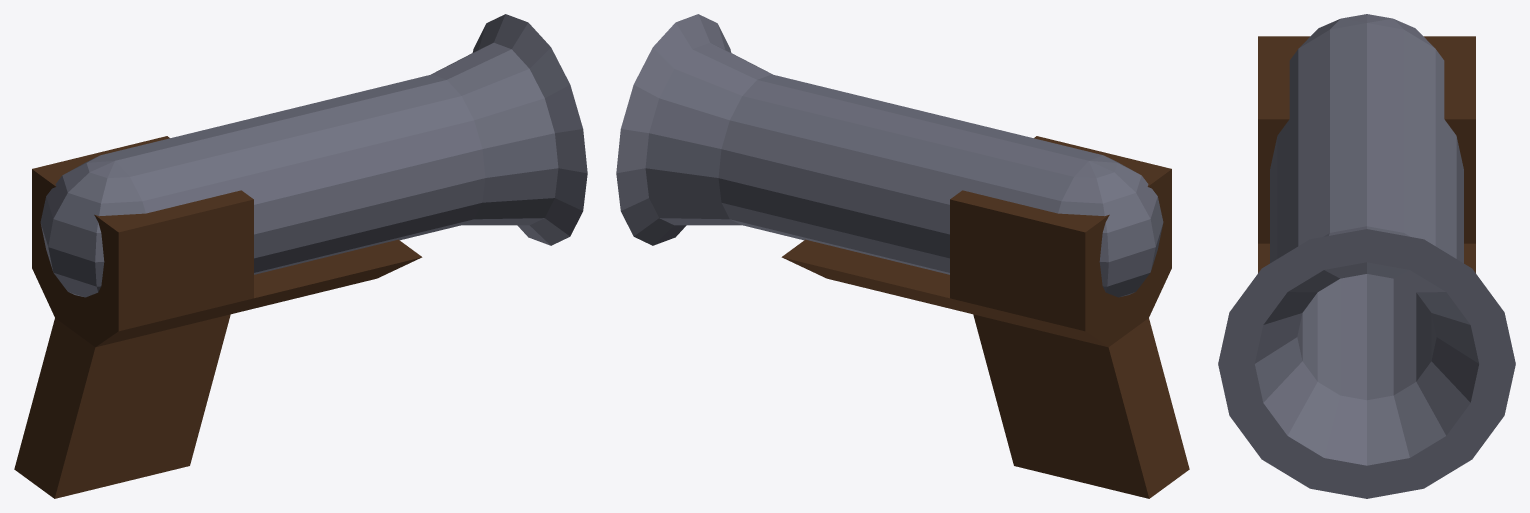
File: handcannon.fbx
3 renders of one model, left to right at view 1: azimuth 30°, elevation 25°; view 2: azimuth 150°, elevation 25°; view 3: azimuth 270°, elevation 25°, orthographic. The views are drawn at different scales.
Parts seen in each view (by area): view 1: Cube; view 2: Cube; view 3: Cube.
Boxes of the visible parts, bbox=[...] form: Cube: bbox=[14, 14, 587, 498]; Cube: bbox=[616, 14, 1189, 498]; Cube: bbox=[1218, 14, 1515, 498].
Bounding box in the file's own units: 175 × 115 × 72.77.
